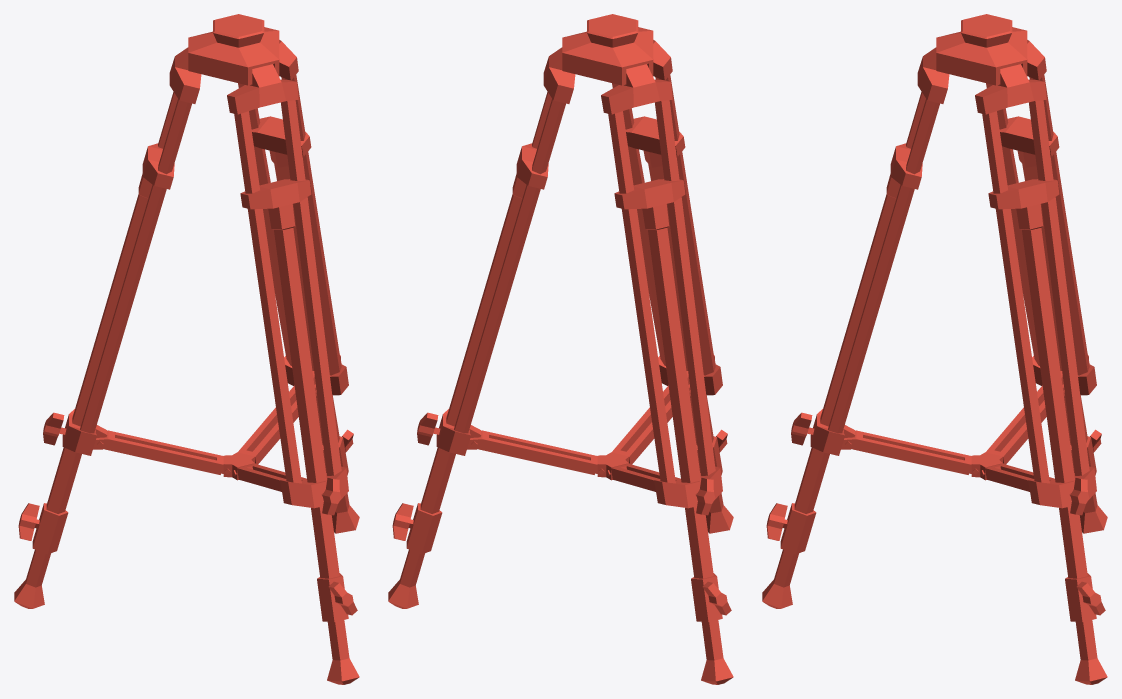
Rendered from SM_Tripod_Camera_Base.fbx.
3 renders of one model, left to right at view 1: azimuth 30°, elevation 25°; view 2: azimuth 150°, elevation 25°; view 3: azimuth 270°, elevation 25°, orthographic.
Visible parts, largest first — view 1: SM_Tripod_Camera_Base; view 2: SM_Tripod_Camera_Base; view 3: SM_Tripod_Camera_Base.
Part boxes in pixels (bbox=[...]): SM_Tripod_Camera_Base: bbox=[14, 14, 359, 684]; SM_Tripod_Camera_Base: bbox=[388, 14, 733, 684]; SM_Tripod_Camera_Base: bbox=[762, 14, 1107, 684].
Size of the model in its own units: 51.48 by 59.45 by 95.63.
